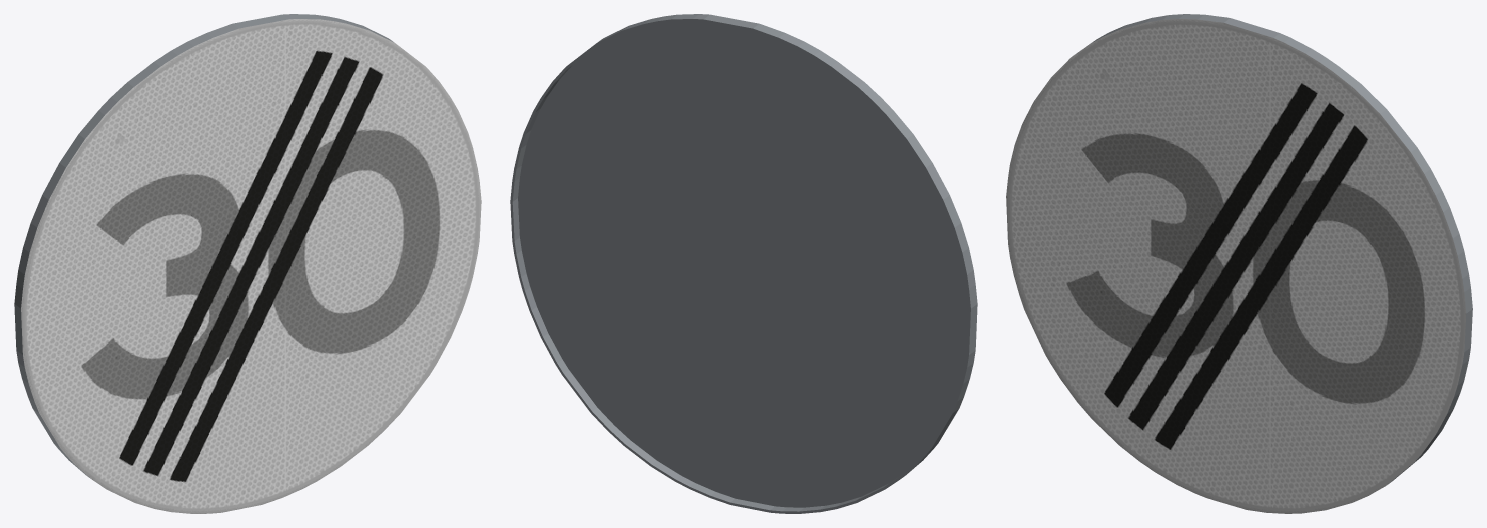
3 views of the same model, side by side, from view 1: azimuth 30°, elevation 25°; view 2: azimuth 150°, elevation 25°; view 3: azimuth 330°, elevation 25° (orthographic).
Parts seen in each view (by area): view 1: cat_17682ab915a321d1; view 2: cat_17682ab915a321d1; view 3: cat_17682ab915a321d1.
Boxes of the visible parts, x1=… form: cat_17682ab915a321d1: x1=14, y1=14, x2=481, y2=513; cat_17682ab915a321d1: x1=510, y1=14, x2=977, y2=513; cat_17682ab915a321d1: x1=1006, y1=14, x2=1472, y2=513.
Bounding box in the file's own units: 0.6 × 0.015 × 0.6.
2 materials, 1 textured.
